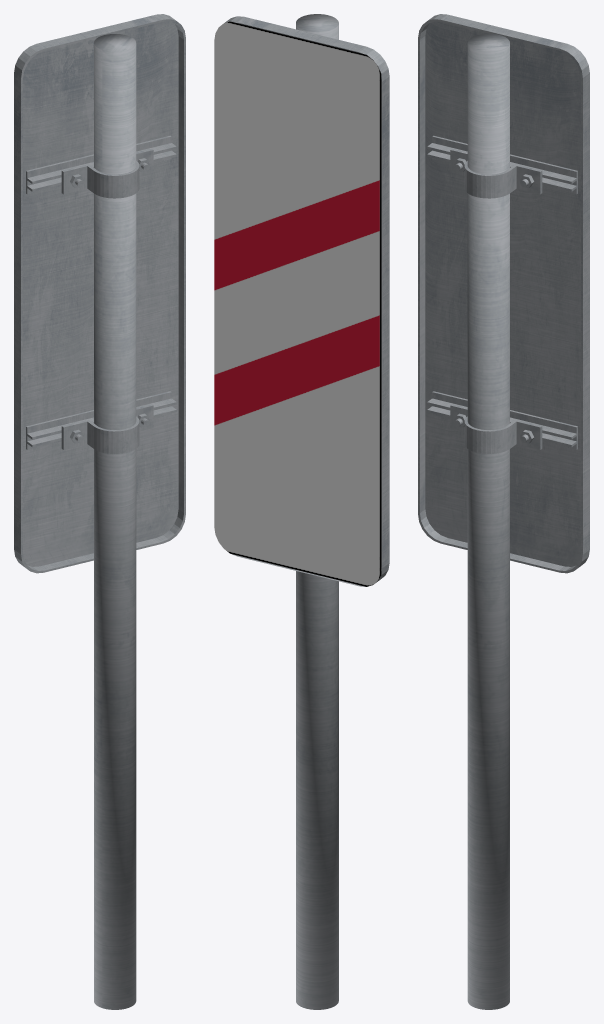
The model's file is Countdown_marker_to_level_crossing__2_.fbx.
3 renders of one model, left to right at view 1: azimuth 30°, elevation 25°; view 2: azimuth 150°, elevation 25°; view 3: azimuth 330°, elevation 25°, orthographic. The views are drawn at different scales.
Visible parts, largest first — view 1: Countdown marker to level crossing (2); view 2: Countdown marker to level crossing (2); view 3: Countdown marker to level crossing (2).
Part boxes in pixels (box(x1,y1,x2,y2)): Countdown marker to level crossing (2): box(14, 14, 185, 1009); Countdown marker to level crossing (2): box(214, 14, 389, 1009); Countdown marker to level crossing (2): box(418, 14, 589, 1009).
Size of the model in its own units: 0.0875 by 0.27 by 1.5.
